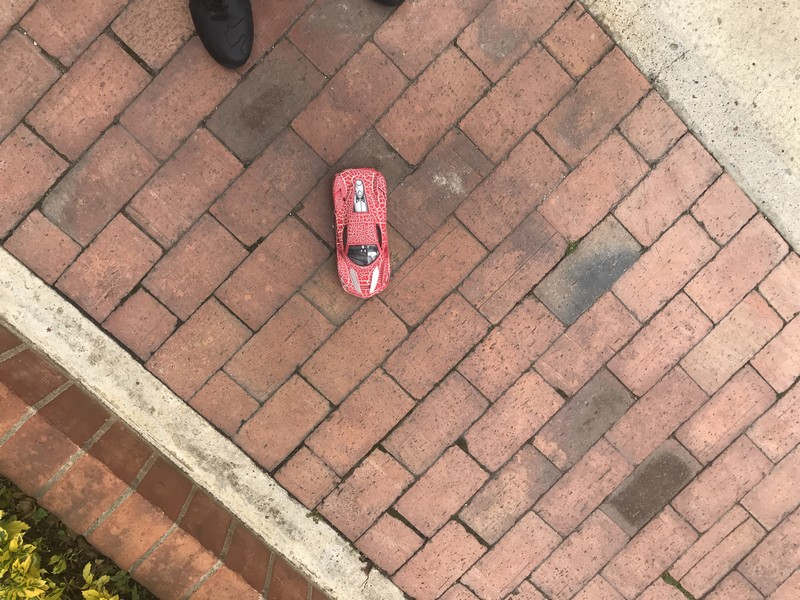RC: (329, 167, 395, 299)
